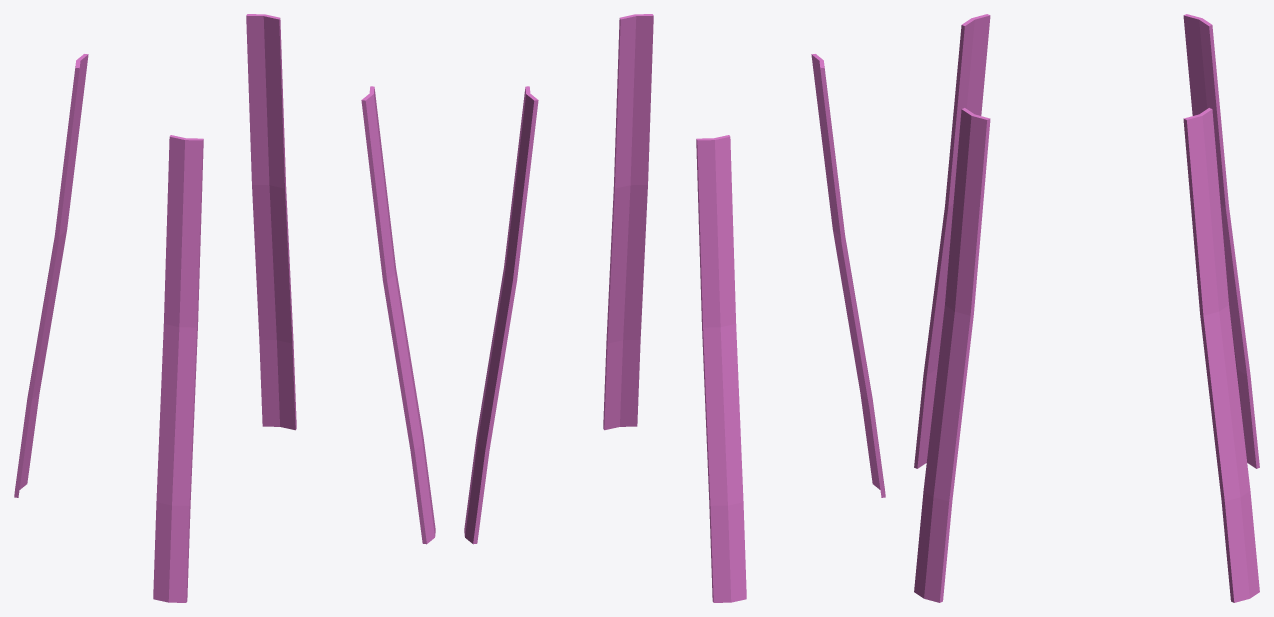
3 views of the same model, side by side, from view 1: azimuth 30°, elevation 25°; view 2: azimuth 150°, elevation 25°; view 3: azimuth 270°, elevation 25° (orthographic). The views are drawn at different scales.
Parts seen in each view (by area): view 1: 四条宽幅折纸吊带.001; view 2: 四条宽幅折纸吊带.001; view 3: 四条宽幅折纸吊带.001.
Part boxes in pixels (<box>): 四条宽幅折纸吊带.001: <box>14,14,435,602</box>; 四条宽幅折纸吊带.001: <box>464,14,885,602</box>; 四条宽幅折纸吊带.001: <box>914,14,1259,602</box>.
Bounding box in the file's own units: 0.3089 × 0.456 × 0.3089.
